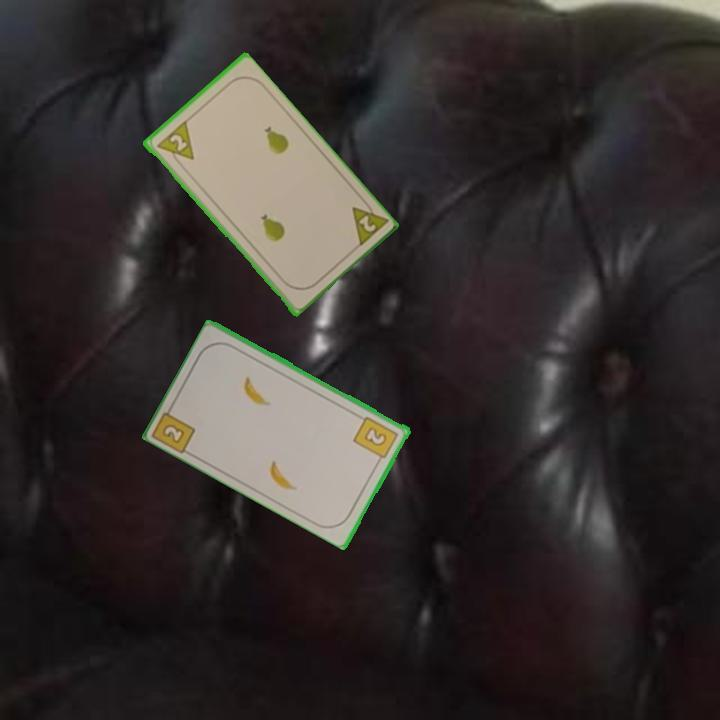2b: (350, 412, 401, 466), (151, 399, 199, 456)
2p: (347, 194, 390, 250), (153, 118, 197, 170)
